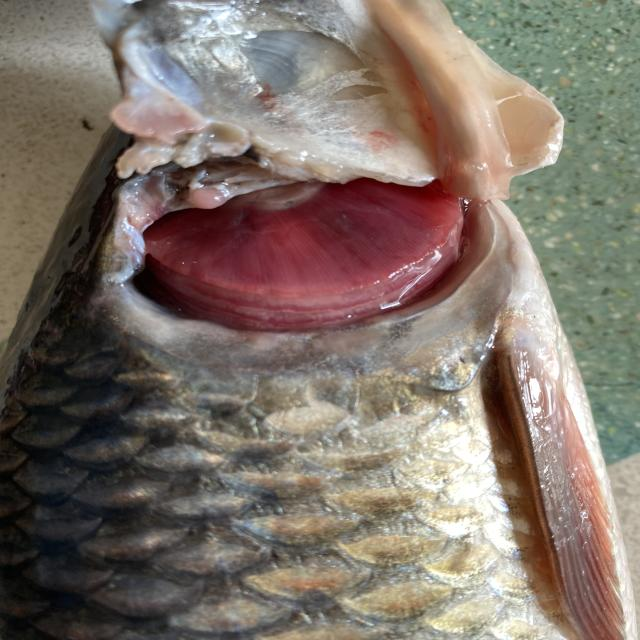Fresh: (85, 146, 513, 343)
